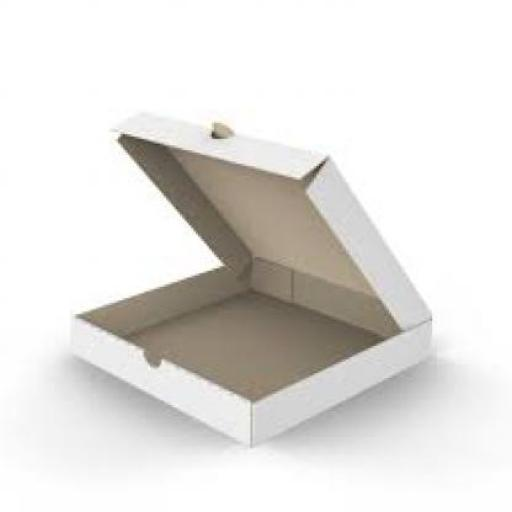cardboard: (63, 109, 428, 446)
